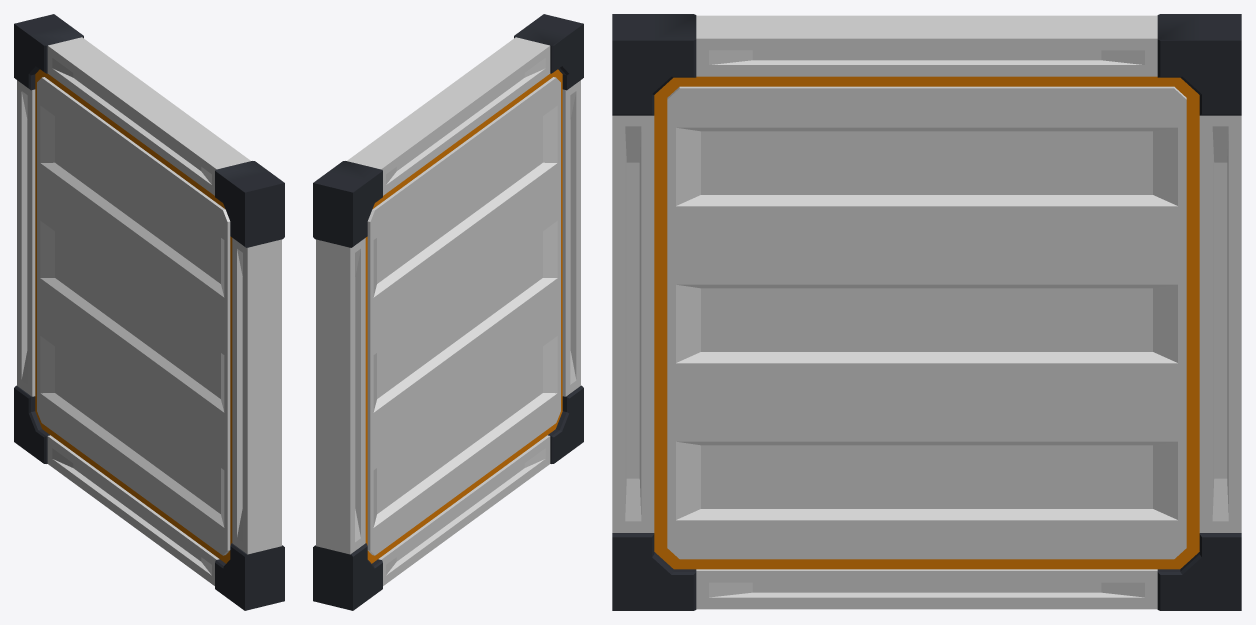
The model's file is SM_Wall_V5.glb.
The picture shows the model from 3 angles, left to right: view 1: azimuth 30°, elevation 25°; view 2: azimuth 150°, elevation 25°; view 3: azimuth 270°, elevation 25°; orthographic projection. The views are drawn at different scales.
Parts seen in each view (by area): view 1: SM_Wall_Cadre.005; view 2: SM_Wall_Cadre.005; view 3: SM_Wall_Cadre.005.
Part boxes in pixels (bbox=[...]): SM_Wall_Cadre.005: bbox=[14, 14, 284, 610]; SM_Wall_Cadre.005: bbox=[313, 14, 583, 610]; SM_Wall_Cadre.005: bbox=[612, 14, 1241, 610].
Bounding box in the file's own units: 0.4 × 4 × 4.
